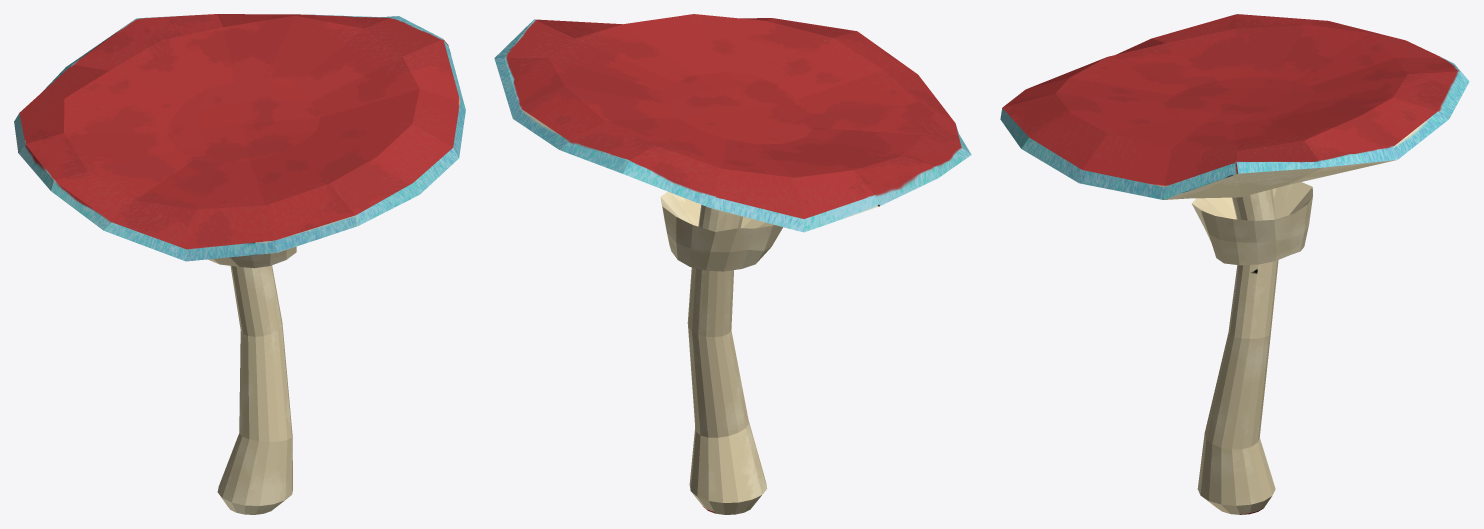
The model's file is MUSHROOM-V2-02.fbx.
3 renders of one model, left to right at view 1: azimuth 30°, elevation 25°; view 2: azimuth 150°, elevation 25°; view 3: azimuth 270°, elevation 25°, orthographic. The views are drawn at different scales.
Visible parts, largest first — view 1: Cylinder.003; view 2: Cylinder.003; view 3: Cylinder.003.
Boxes of the visible parts, x1,y1,x2,y2 form: Cylinder.003: [14, 14, 465, 514]; Cylinder.003: [494, 14, 971, 514]; Cylinder.003: [1000, 14, 1469, 514].
Bounding box in the file's own units: 139 × 141 × 137.
